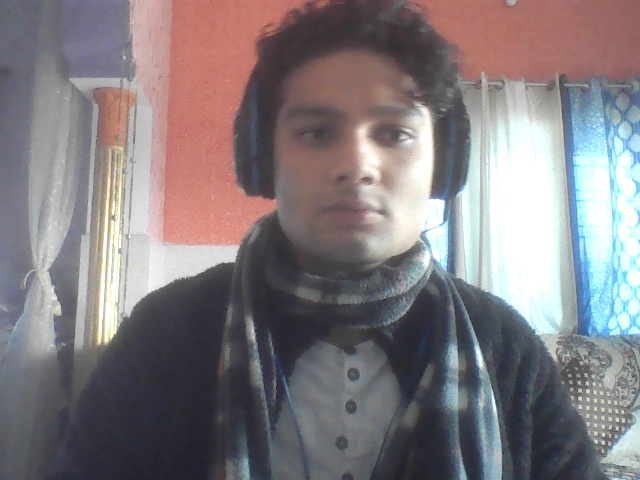real: (244, 0, 457, 302)
